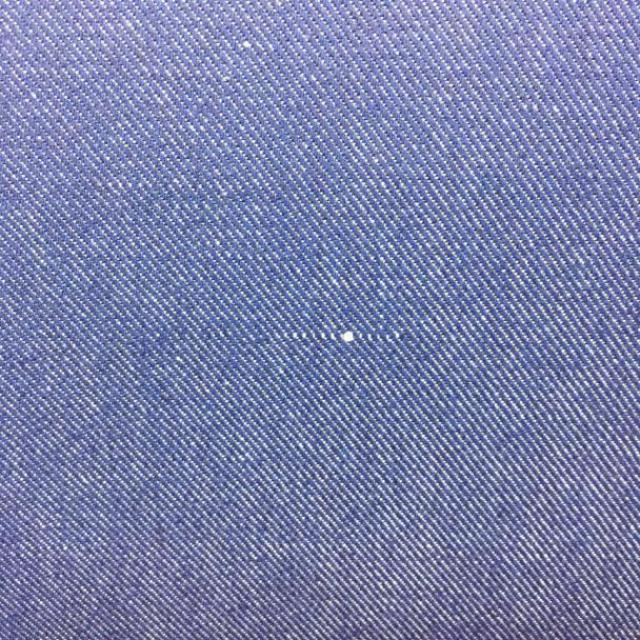Knot: (274, 329, 403, 346)
